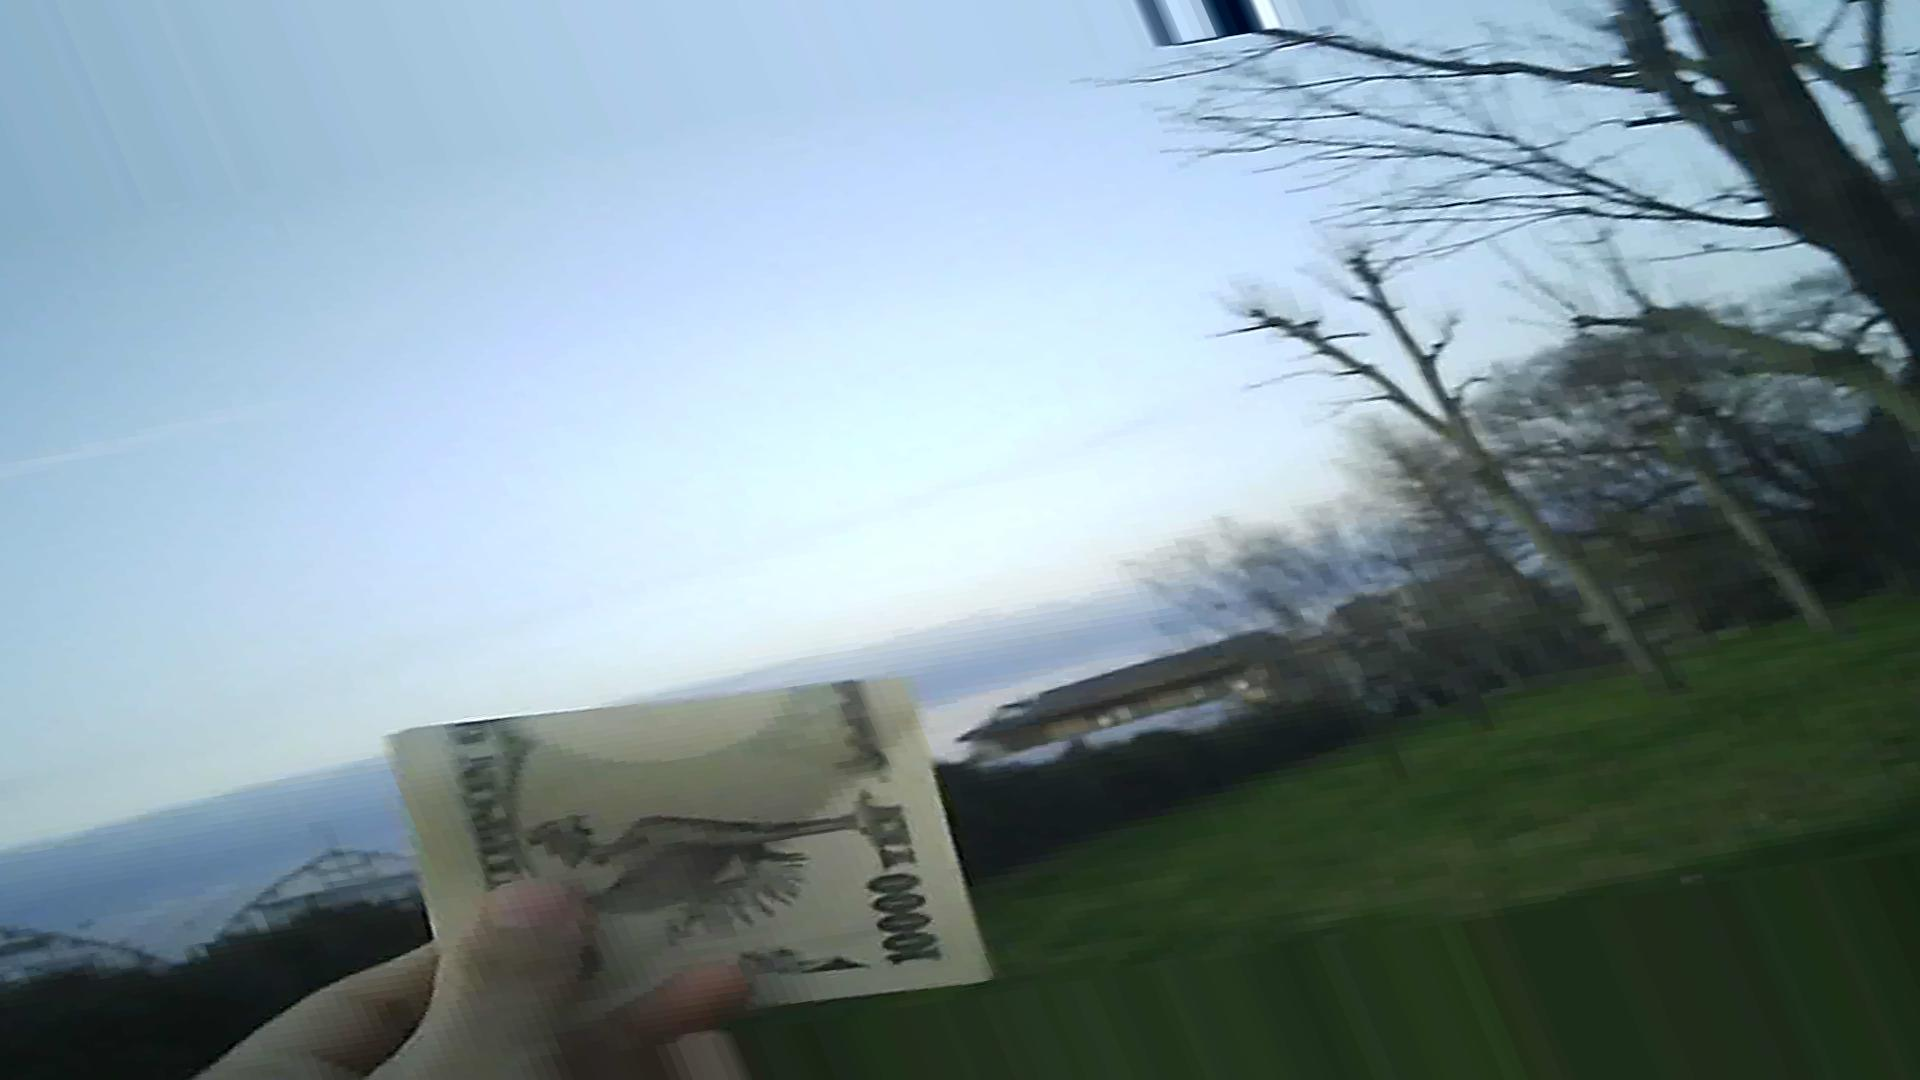10,000 Yen: (393, 662, 986, 998)
